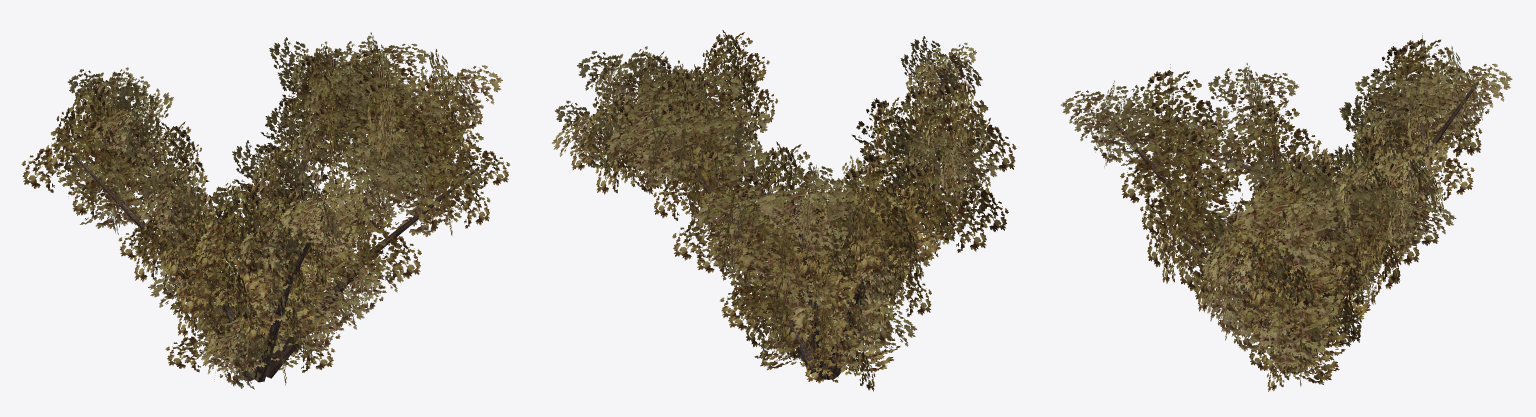
Rendered from bush_3d_06_golden_beige_lod0.glb.
3 views of the same model, side by side, from view 1: azimuth 30°, elevation 25°; view 2: azimuth 150°, elevation 25°; view 3: azimuth 270°, elevation 25° (orthographic). The views are drawn at different scales.
Visible parts, largest first — view 1: foliage_cards, wood_geometry; view 2: foliage_cards, wood_geometry; view 3: foliage_cards, wood_geometry.
Part boxes in pixels (box(x1,y1,x2,y2)): foliage_cards: box(21, 32, 510, 389); wood_geometry: box(75, 55, 479, 382); foliage_cards: box(552, 30, 1016, 391); wood_geometry: box(628, 67, 979, 379); foliage_cards: box(1060, 33, 1512, 391); wood_geometry: box(1101, 82, 1478, 373).
Bounding box in the file's own units: 3.15 × 1.95 × 2.94.
Materials: 2 (2 with a texture image).
